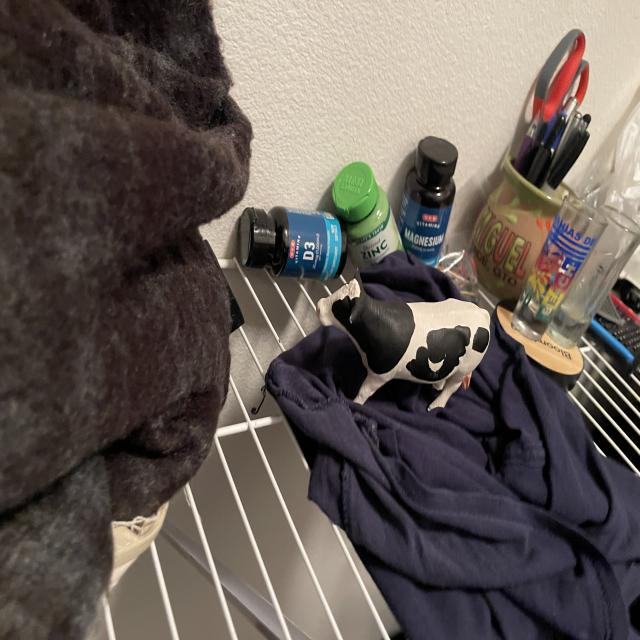cow: (302, 274, 496, 425)
